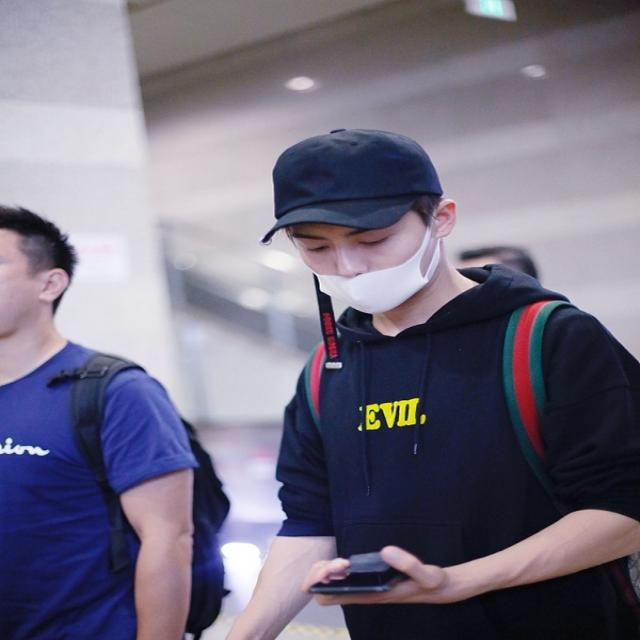mask: (296, 180, 429, 314)
